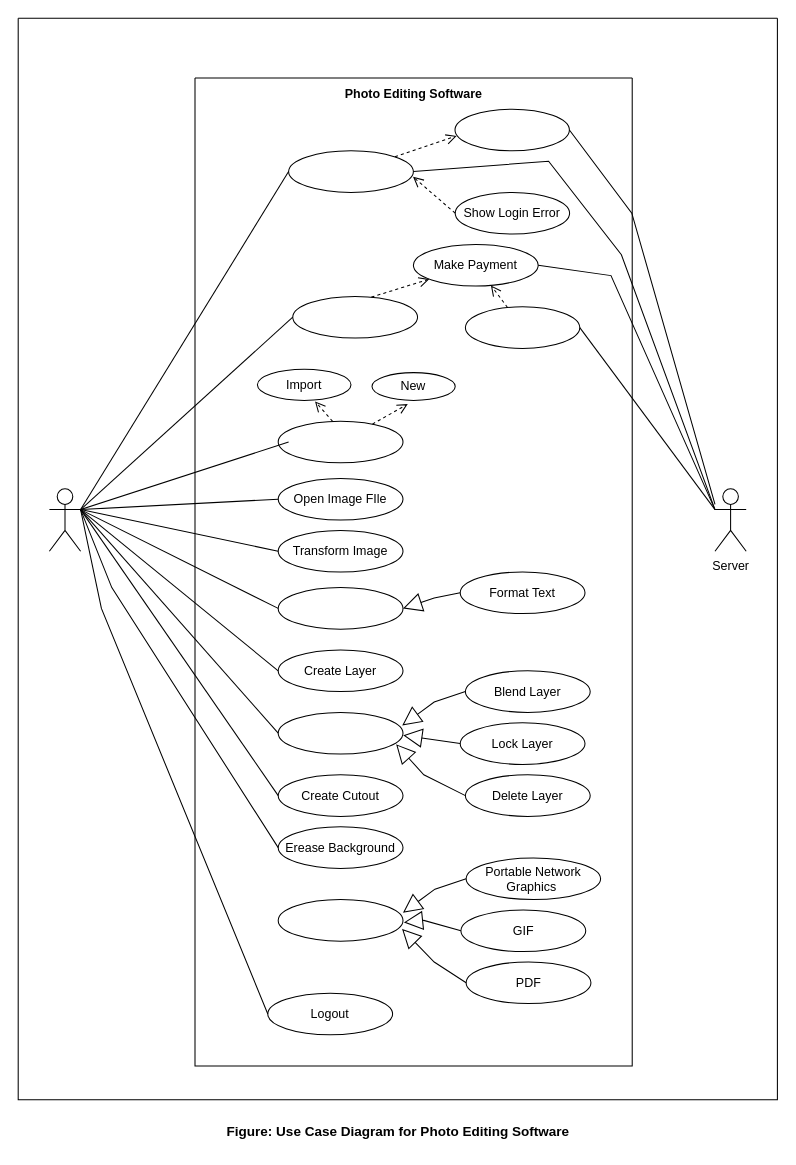
Image size: 796x1165. Some labels were removed from this diagram. The box of each missing label's shape, as (x1, y1, x2, y2) in pixels:
Add Text: (277, 587, 403, 629)
Buy Software: (292, 295, 418, 338)
Export File: (277, 899, 403, 941)
Login: (288, 150, 413, 192)
Modify Layer: (277, 711, 403, 754)
Open Document: (277, 420, 403, 463)
Show Payment Failure: (464, 306, 580, 348)
User: (48, 488, 81, 551)
Verify Credentials: (454, 108, 569, 151)
